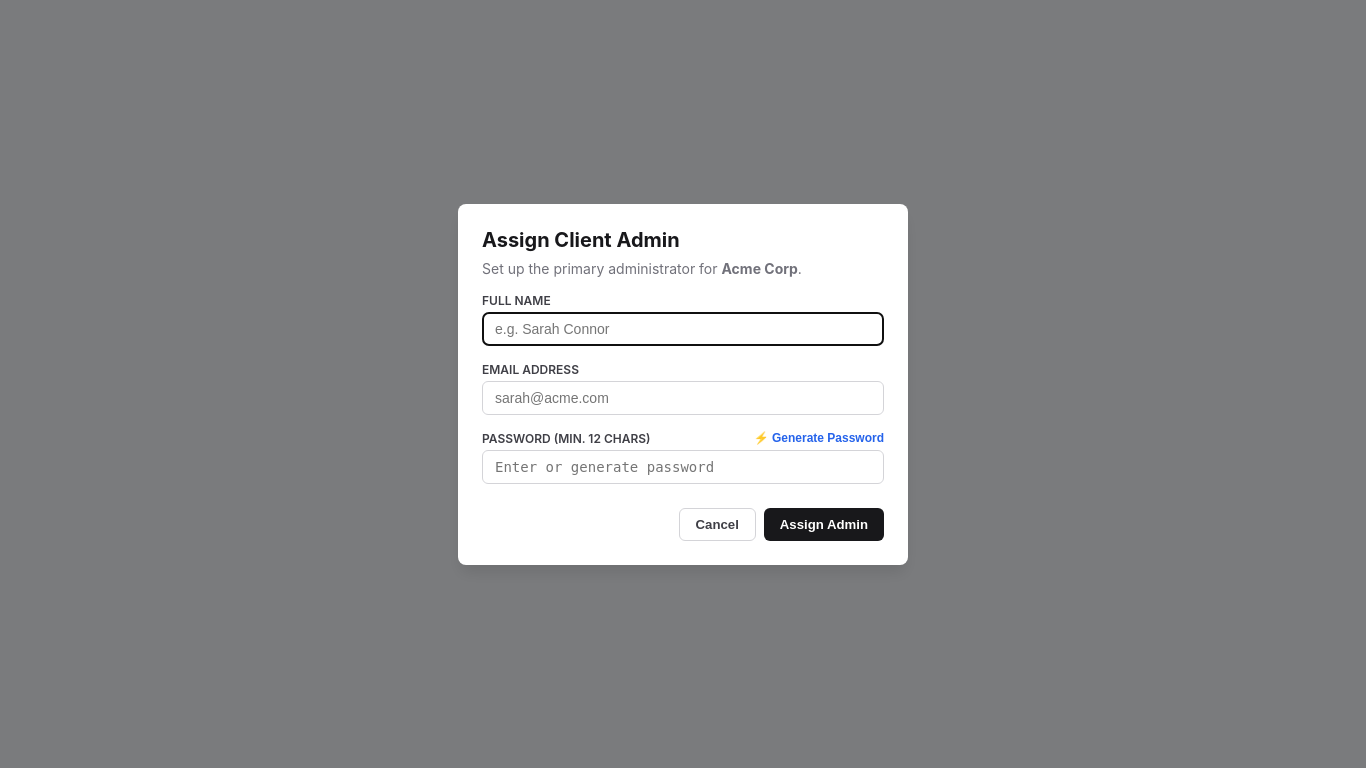
Scenario: AssignAdminModal › should show error when email is invalid
Type "John Doe" into the field labelled "Full Name" at (683, 328), box [482, 312, 884, 346]
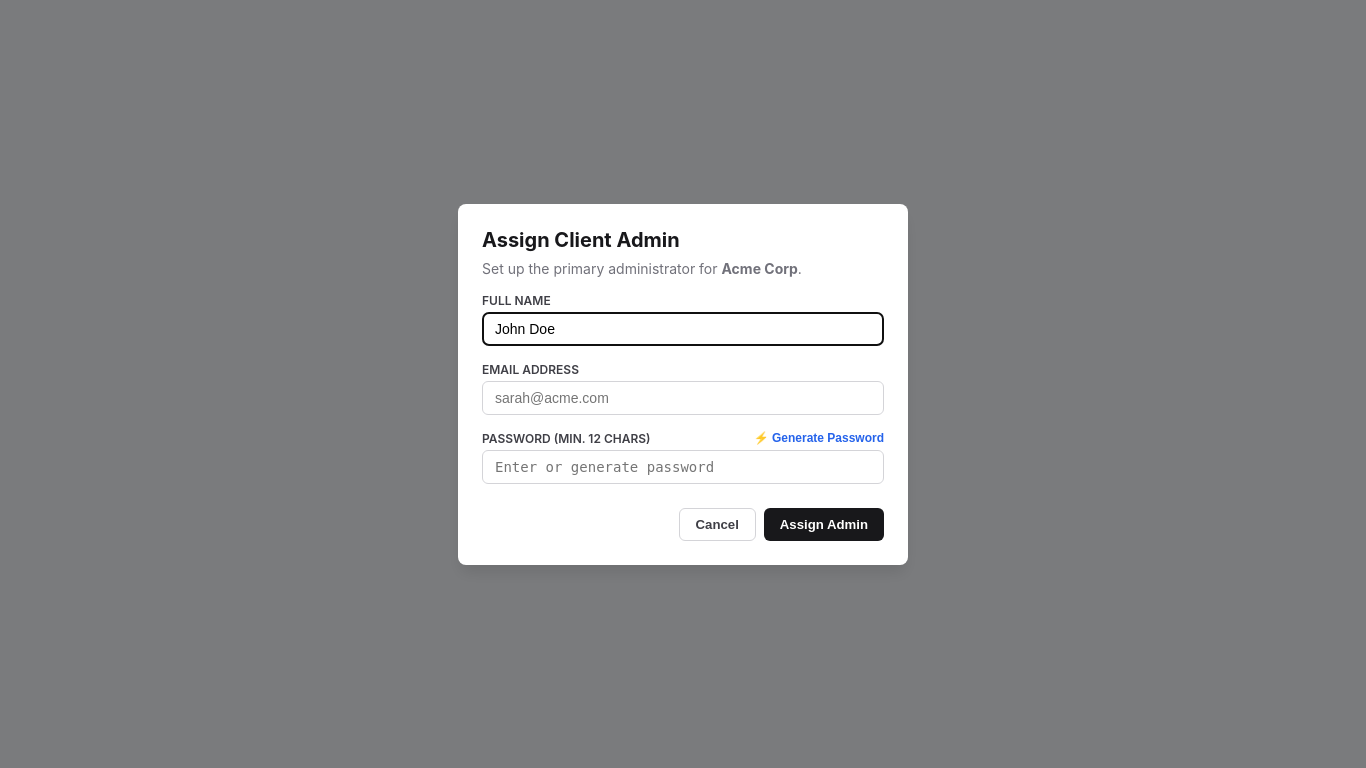
Type "invalid-email" into the field labelled "Email Address" at (683, 398), box [482, 380, 884, 414]
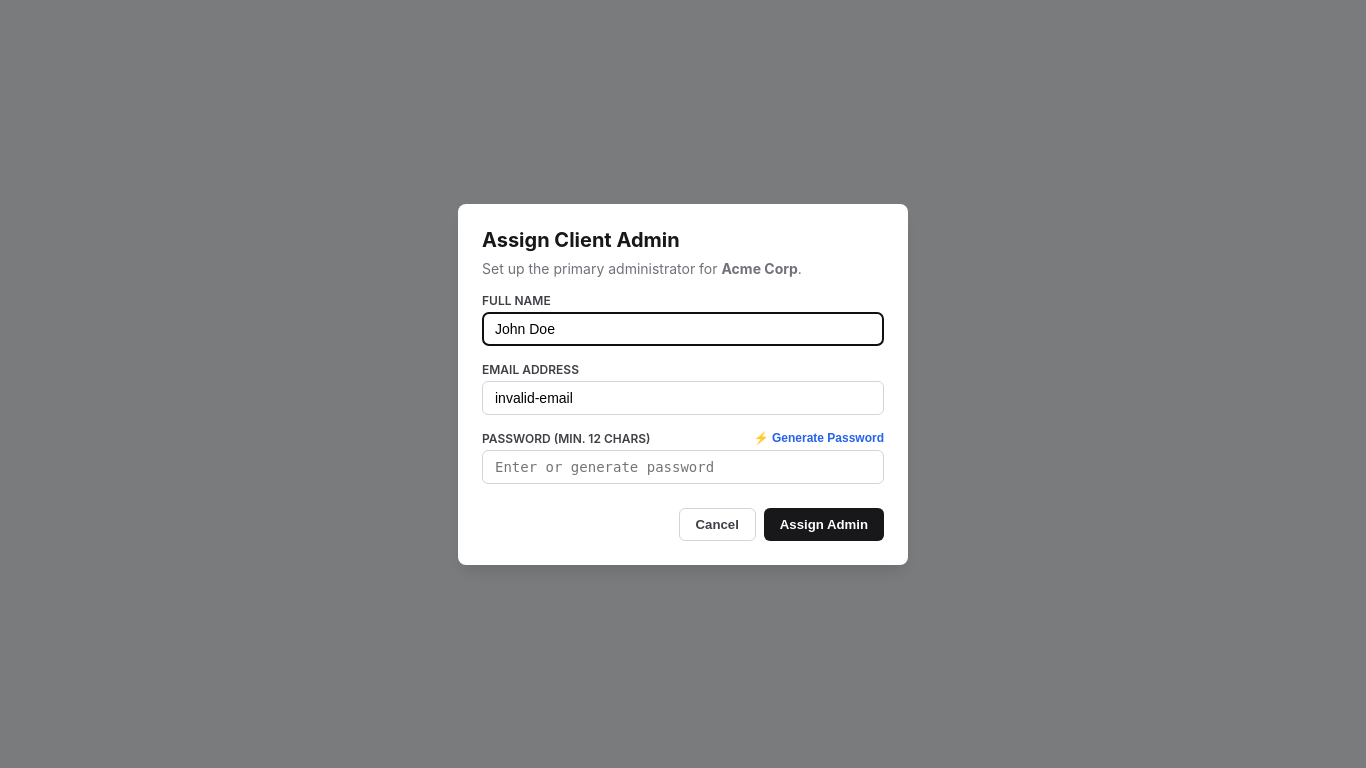
Click the button "Assign Admin" at (824, 524), box [764, 508, 884, 540]
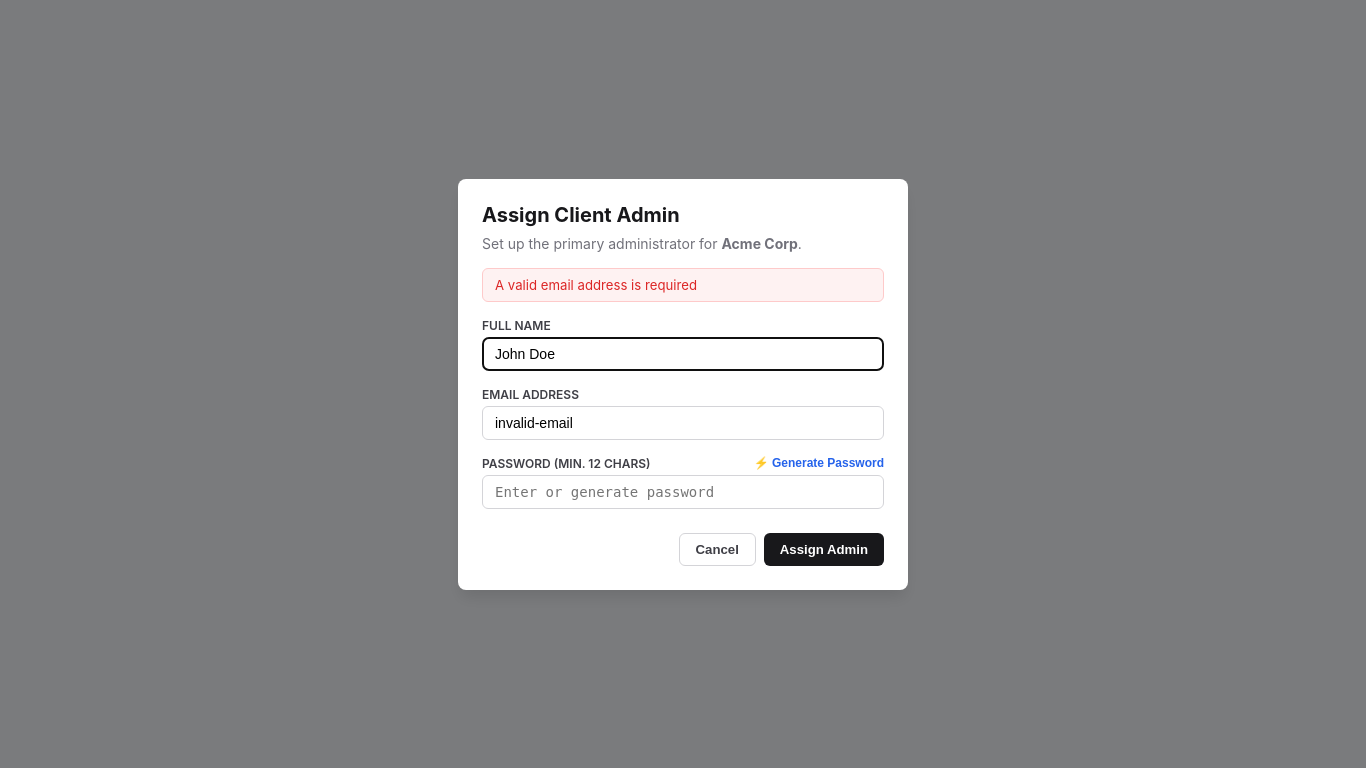
Check: the text "A valid email address is required" is shown, box [482, 268, 884, 302]
